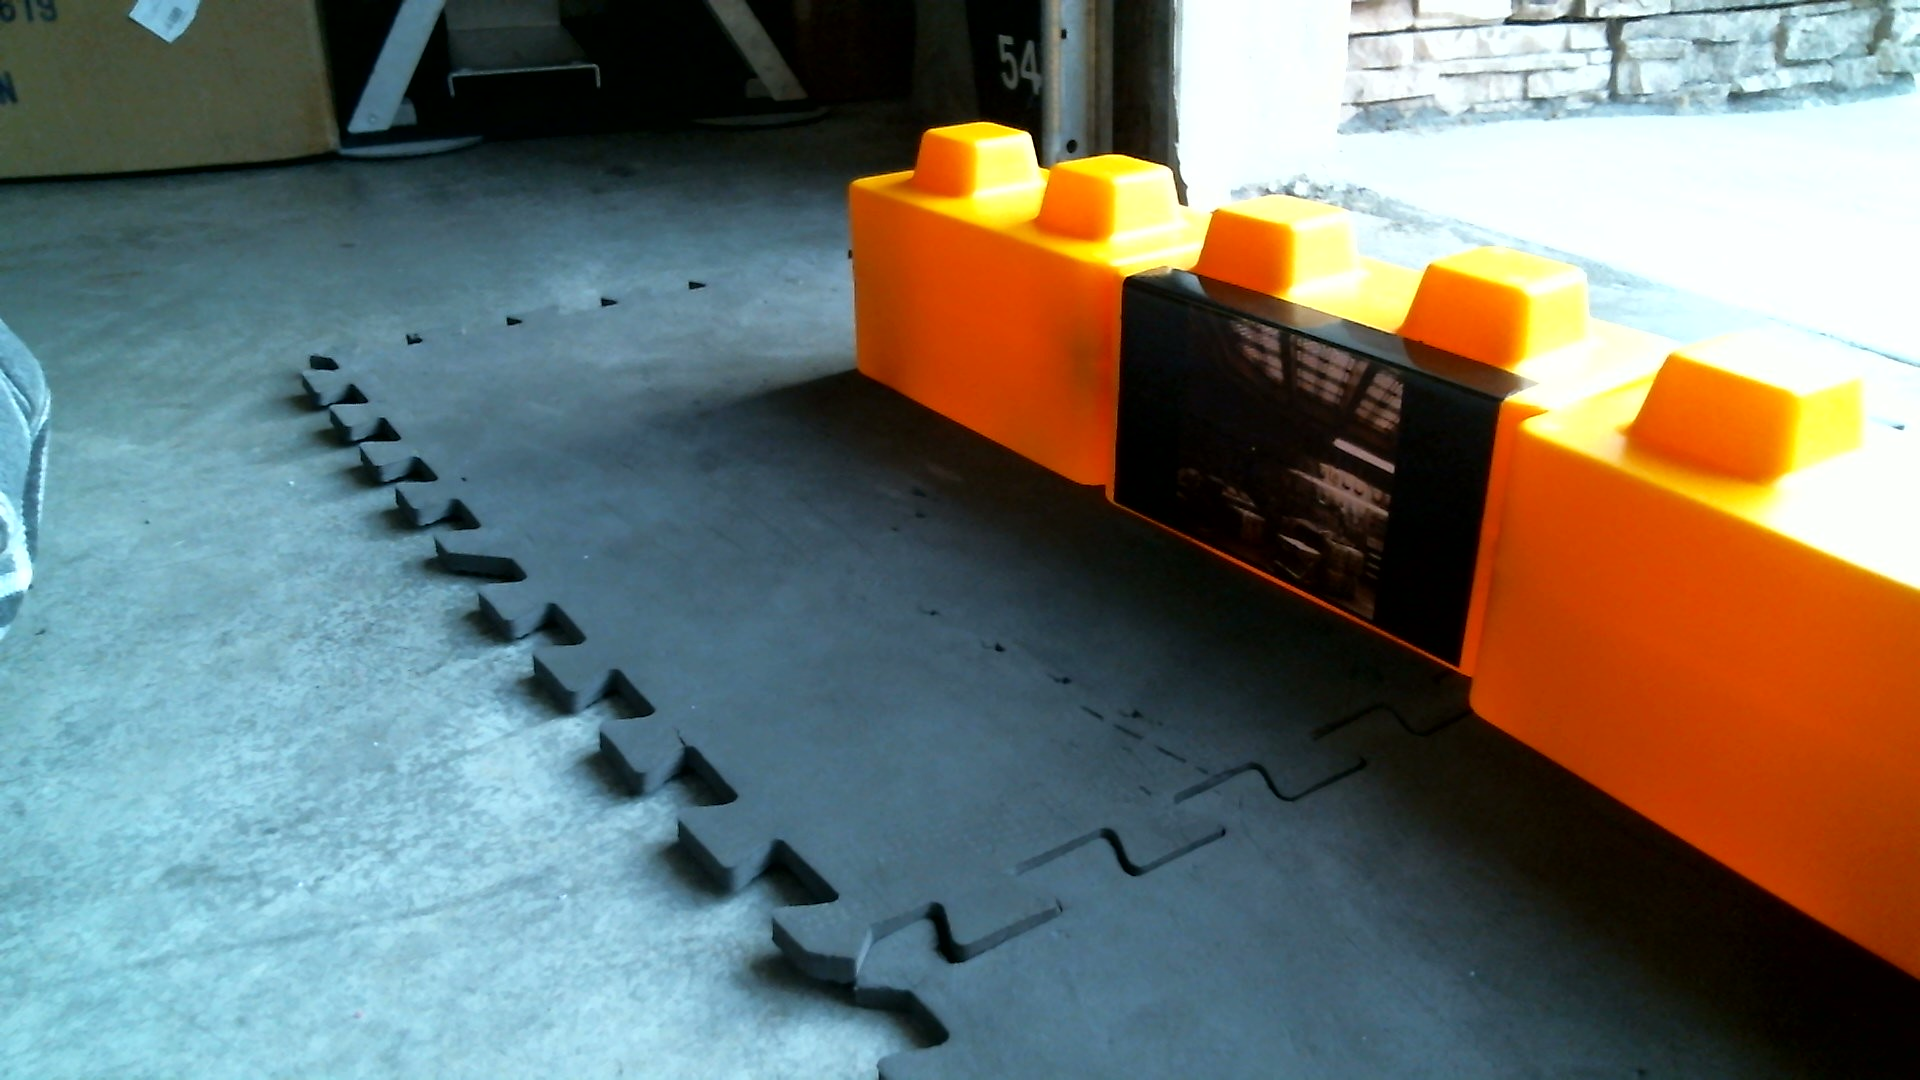center: (837, 108, 1919, 982)
